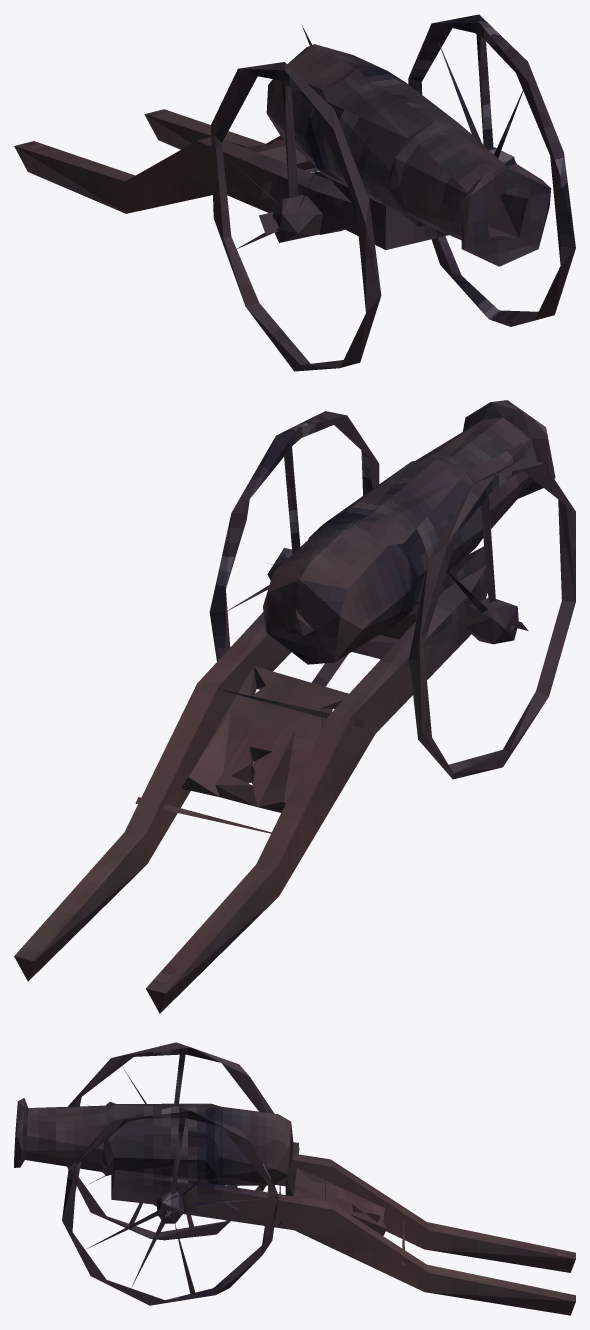
File: cannon.glb
3 views of the same model, one above another, from view 1: azimuth 30°, elevation 25°; view 2: azimuth 150°, elevation 25°; view 3: azimuth 270°, elevation 25° (orthographic). The views are drawn at different scales.
Parts seen in each view (by area): view 1: cannon; view 2: cannon; view 3: cannon.
Boxes of the visible parts, bbox=[...] form: cannon: bbox=[14, 14, 575, 371]; cannon: bbox=[14, 400, 575, 1013]; cannon: bbox=[14, 1042, 575, 1315].
Size of the model in its own units: 49.99 by 61.32 by 143.
Materials: 1 (1 with a texture image).
